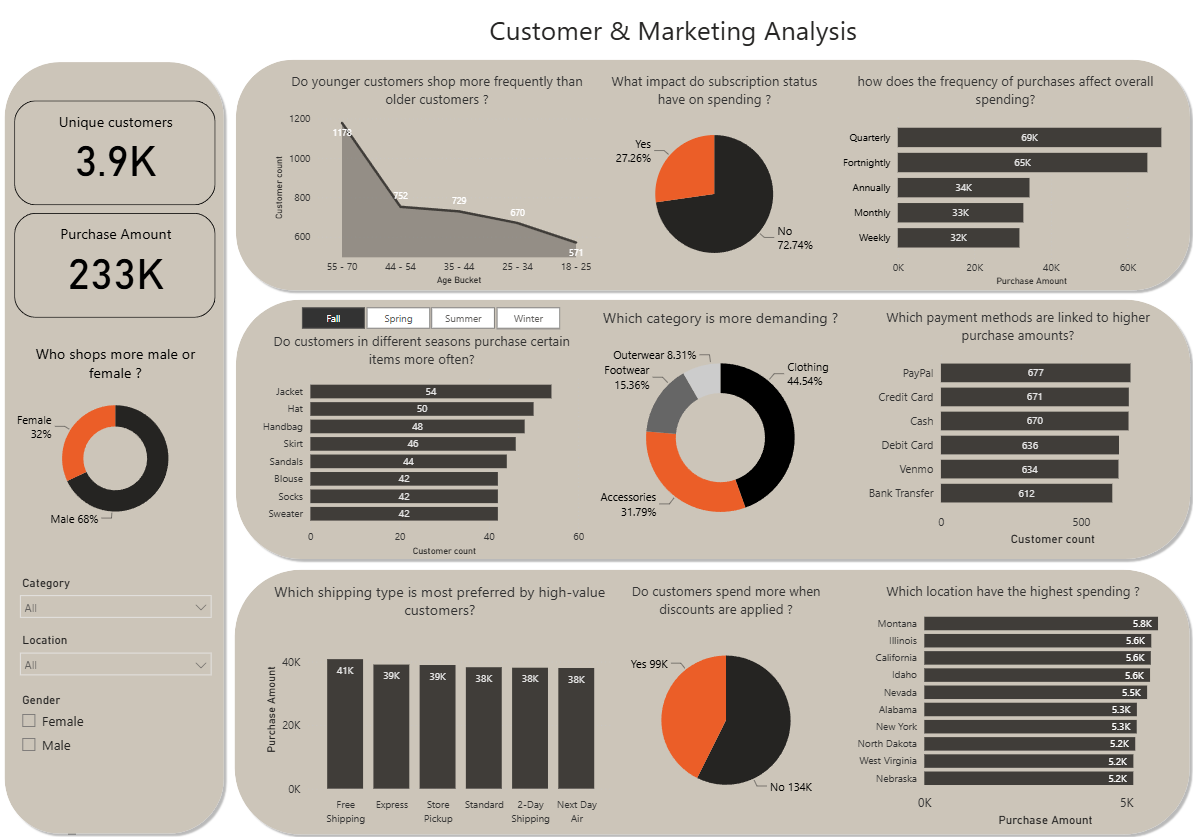

This screenshot's page, from the dashboard's own definition file:
{"tool":"powerbi","page":{"name":"Dashboard Desgin","canvas":[1450,1020],"ordinal":0},"visuals":[{"type":"group","id":"g1","title":"Group 1","box":[0,66.7,1450.8,953.3],"z":0},{"type":"shape","box":[0,70.4,279.3,948.8],"z":0,"group":"g1"},{"type":"shape","box":[279.9,66.7,1170.1,293.4],"z":1000,"group":"g1"},{"type":"cardVisual","fields":{"Data":["_Measure.Customer count"]},"box":[13.4,117.6,254.2,137.7],"z":1000},{"type":"cardVisual","fields":{"Data":["_Measure.Purchase Amount"]},"box":[13.4,255.3,254.2,137.7],"z":2000},{"type":"shape","box":[280.4,357.1,1170.4,327.9],"z":2000,"group":"g1"},{"type":"columnChart","title":"Do younger customers shop more frequently than older customers ?","fields":{"Category":["shopping_behavior_updated (2).Age_Bucket"],"Y":["_Measure.Customer count"]},"box":[328.1,88.5,404.2,264.3],"z":3000},{"type":"shape","box":[278.3,685.2,1171.2,334.8],"z":3000,"group":"g1"},{"type":"barChart","title":"how does the frequency of purchases  affect overall spending?","fields":{"Category":["shopping_behavior_updated (2).Frequency of Purchases"],"Y":["_Measure.Purchase Amount"]},"box":[1011.1,88.5,418.8,265.4],"z":4000},{"type":"barChart","title":"Do customers in different seasons purchase certain items more often?","fields":{"Category":["shopping_behavior_updated (2).Item Purchased"],"Y":["_Measure.Customer count"]},"box":[311,403.7,403.7,277.1],"z":5000},{"type":"slicer","fields":{"Values":["shopping_behavior_updated (2).Season"]},"box":[341.5,366.4,363,33.9],"z":6000},{"type":"donutChart","title":"Which category is more demanding ?","fields":{"Category":["shopping_behavior_updated (2).Category"],"Y":["CountNonNull(shopping_behavior_updated (2).Customer ID)"]},"box":[714.7,374.3,318.9,292.9],"z":7000},{"type":"pieChart","title":"Do customers spend more when discounts are applied ?","fields":{"Category":["shopping_behavior_updated (2).Discount Applied"],"Y":["_Measure.Purchase Amount"]},"box":[750.9,705.9,259.8,293.4],"z":8000},{"type":"barChart","title":"Which location have the highest spending ?","fields":{"Category":["shopping_behavior_updated (2).Location"],"Y":["_Measure.Purchase Amount"]},"box":[1028.5,705.9,400.9,302.3],"z":9000},{"type":"stackedAreaChart","title":"Which shipping type is most preferred by high-value customers?","fields":{"Category":["shopping_behavior_updated (2).Shipping Type"],"Y":["_Measure.Purchase Amount"]},"box":[318.7,705.9,432.2,302.3],"z":10000},{"type":"barChart","title":"Which payment methods are linked to higher purchase amounts?","fields":{"Y":["_Measure.Customer count"],"Category":["shopping_behavior_updated (2).Payment Method"]},"box":[1041.4,374,388.5,293.4],"z":11000},{"type":"pieChart","title":"What impact do subscription status have on spending ?","fields":{"Category":["shopping_behavior_updated (2).Subscription Status"],"Y":["_Measure.Purchase Amount"]},"box":[733.4,88.5,267.6,254.2],"z":12000},{"type":"donutChart","title":"Who shops more male or female ?","fields":{"Category":["shopping_behavior_updated (2).Gender"],"Y":["CountNonNull(shopping_behavior_updated (2).Customer ID)"]},"box":[15.7,417.7,251.9,232.9],"z":13000},{"type":"textbox","box":[589,10.8,607,56.4],"z":14000},{"type":"slicer","fields":{"Values":["shopping_behavior_updated (2).Gender"]},"box":[15.8,836.8,252.2,93.9],"z":15000},{"type":"slicer","fields":{"Values":["shopping_behavior_updated (2).Category"]},"box":[14.7,693.2,252.2,73.5],"z":16000},{"type":"slicer","fields":{"Values":["shopping_behavior_updated (2).Location"]},"box":[14.7,763.3,252.2,73.5],"z":17000}]}

Visuals, with their boxes in screenshot pixels (x1, y1, x2, y2), scaled from the page's 1450x1020 canvas onto the 1193x837 screenshot:
"Group 1" group: (0,55,1192,836)
shape: (0,58,230,836)
shape: (230,55,1192,295)
cardVisual - _Measure.Customer count: (11,97,220,209)
cardVisual - _Measure.Purchase Amount: (11,209,220,322)
shape: (231,293,1192,562)
"Do younger customers shop more frequently than older customers ?" columnChart: (270,73,603,290)
shape: (229,562,1192,836)
"how does the frequency of purchases  affect overall spending?" barChart: (832,73,1176,290)
"Do customers in different seasons purchase certain items more often?" barChart: (256,331,588,559)
slicer - shopping_behavior_updated (2).Season: (281,301,580,328)
"Which category is more demanding ?" donutChart: (588,307,850,547)
"Do customers spend more when discounts are applied ?" pieChart: (618,579,832,820)
"Which location have the highest spending ?" barChart: (846,579,1176,827)
"Which shipping type is most preferred by high-value customers?" stackedAreaChart: (262,579,618,827)
"Which payment methods are linked to higher purchase amounts?" barChart: (857,307,1176,548)
"What impact do subscription status have on spending ?" pieChart: (603,73,824,281)
"Who shops more male or female ?" donutChart: (13,343,220,534)
textbox: (485,9,984,55)
slicer - shopping_behavior_updated (2).Gender: (13,687,220,764)
slicer - shopping_behavior_updated (2).Category: (12,569,220,629)
slicer - shopping_behavior_updated (2).Location: (12,626,220,687)
